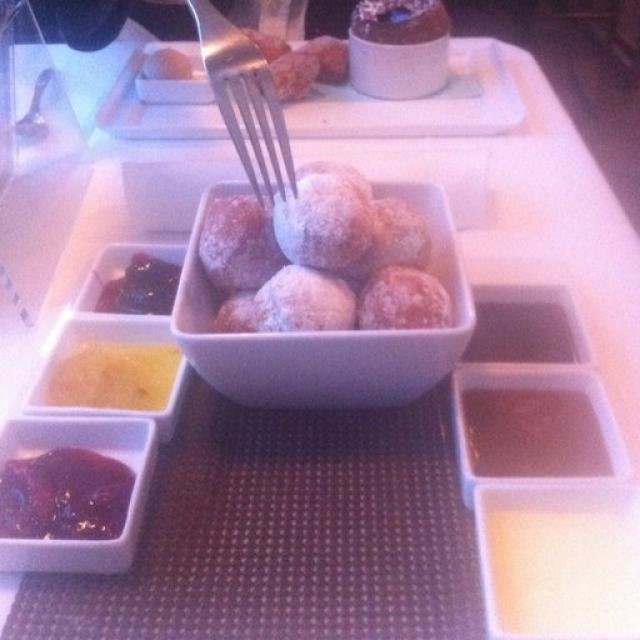Donuts: (197, 160, 483, 361)
